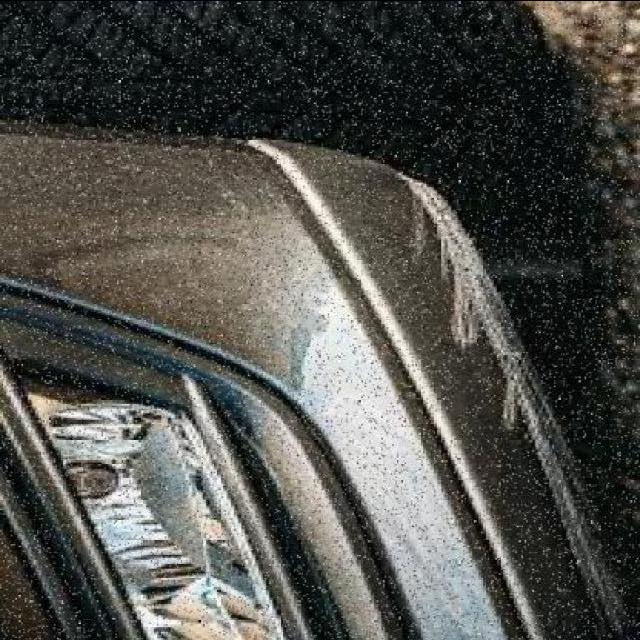front-bumper-dent: (133, 114, 612, 640)
